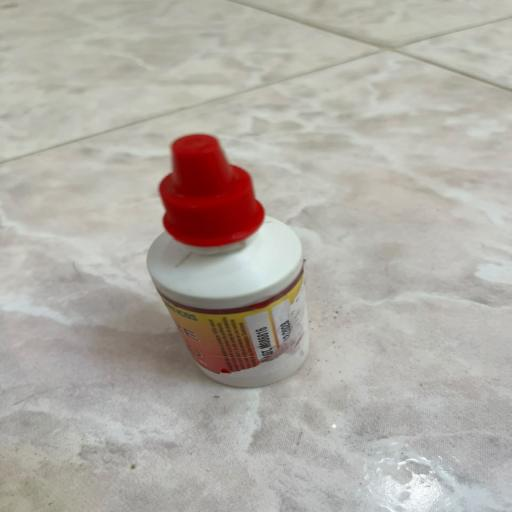HDPE: (124, 114, 362, 432)
